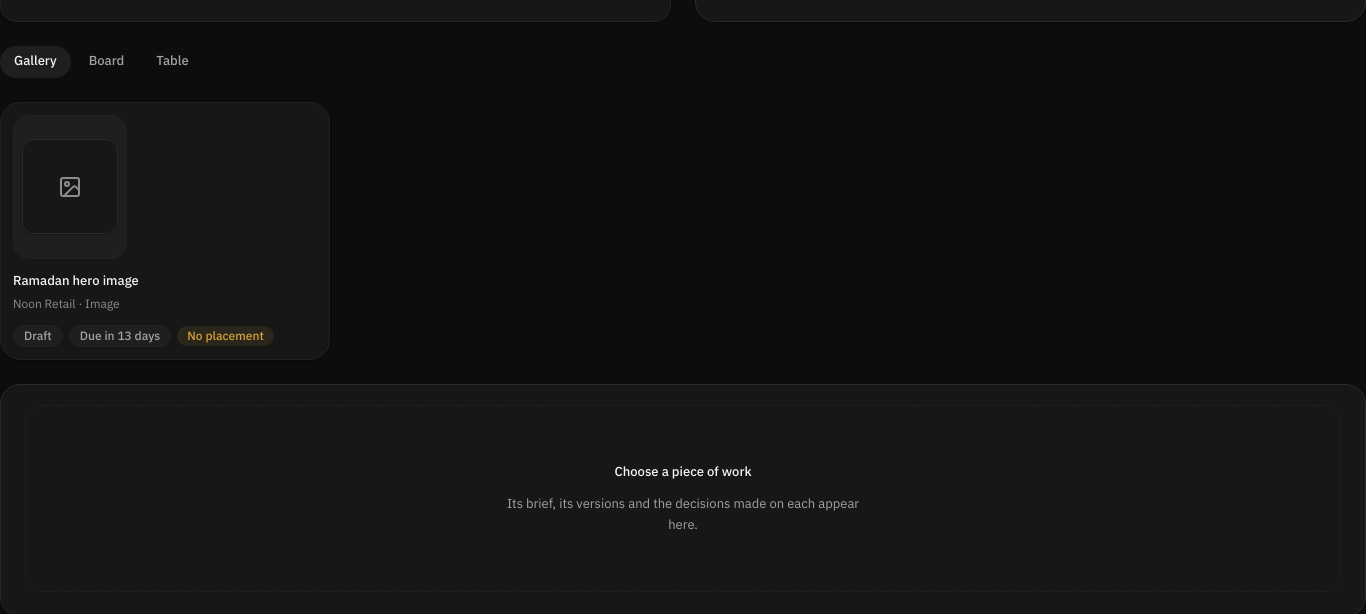
Test: the creative hub › says nothing was checked when no specification is recorded
(page scrolled)
Click the button "Ramadan hero image": coordinates (70, 187) left=0, top=102, right=330, bottom=360
(page scrolled)
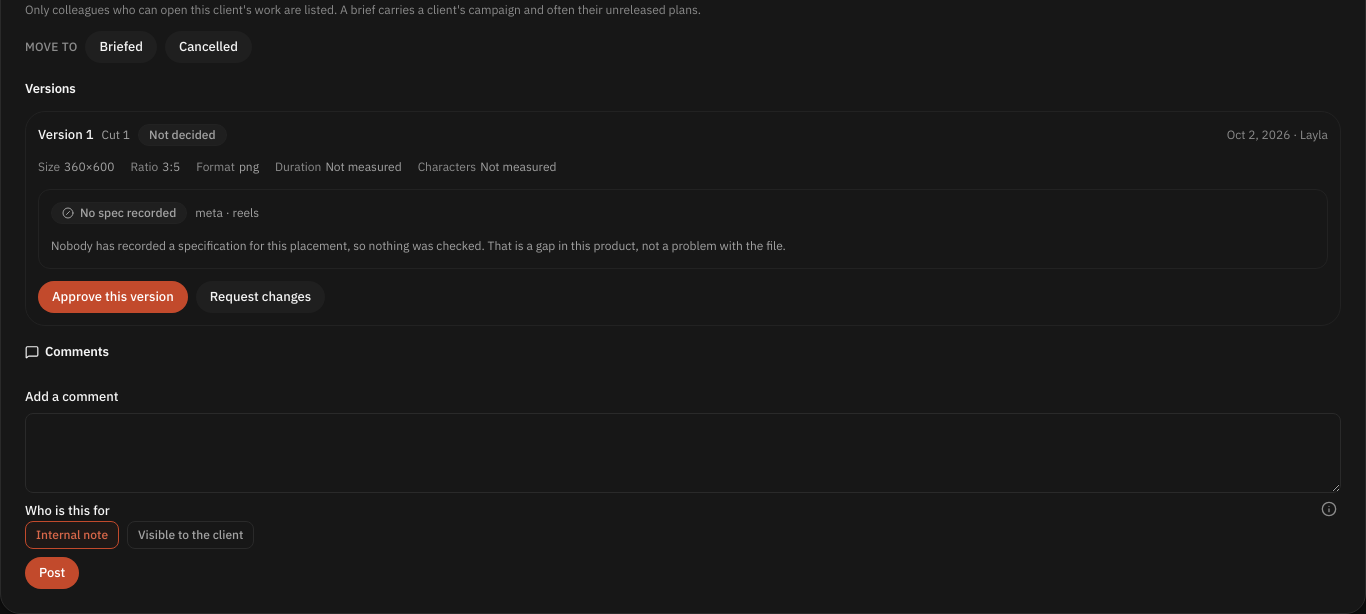
Expected: the text "That is a gap in this product, not a problem with the file" is shown, left=51, top=237, right=786, bottom=255
